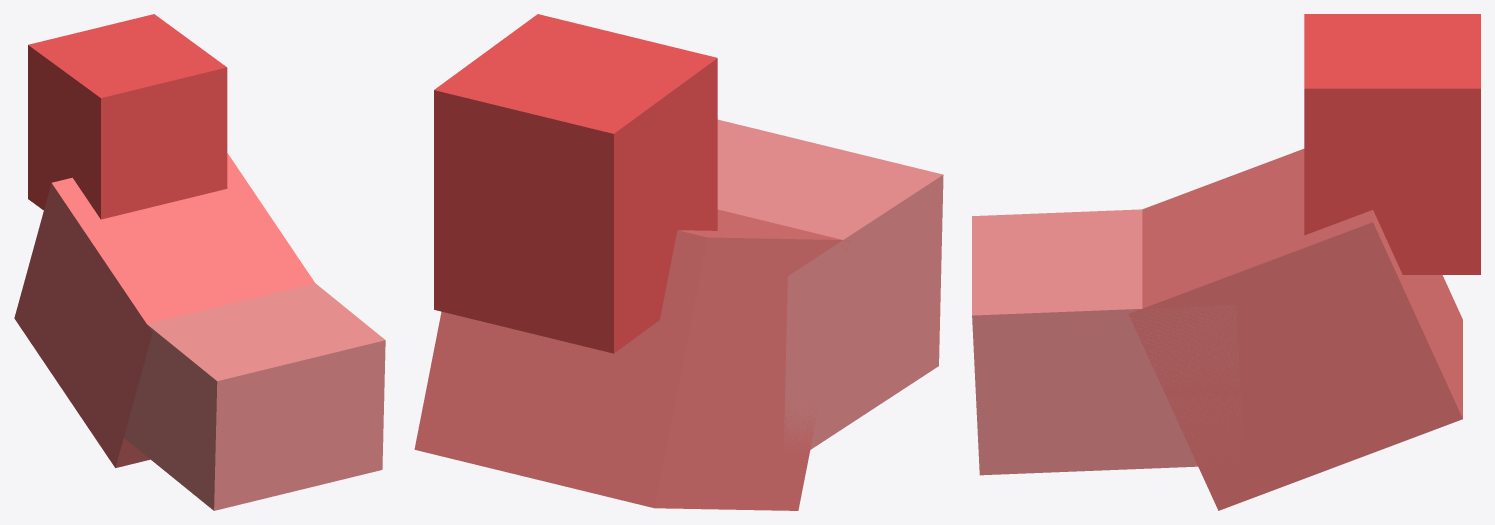
Rendered from birdie.fbx.
3 renders of one model, left to right at view 1: azimuth 30°, elevation 25°; view 2: azimuth 150°, elevation 25°; view 3: azimuth 270°, elevation 25°, orthographic. The views are drawn at different scales.
Visible parts, largest first — view 1: cuboid_2, cuboid, cuboid_1; view 2: cuboid_1, cuboid, cuboid_2; view 3: cuboid, cuboid_2, cuboid_1.
Boxes of the visible parts, x1,y1,x2,y2 form: cuboid_2: (124, 283, 385, 510); cuboid: (14, 153, 314, 467); cuboid_1: (28, 14, 227, 219); cuboid_1: (434, 14, 717, 353); cuboid: (414, 209, 850, 510); cuboid_2: (717, 119, 943, 459); cuboid: (1129, 149, 1462, 510); cuboid_2: (972, 209, 1242, 475); cuboid_1: (1304, 14, 1480, 274).
Size of the model in its own units: 50 by 96.14 by 108.
3 materials, 3 textured.
